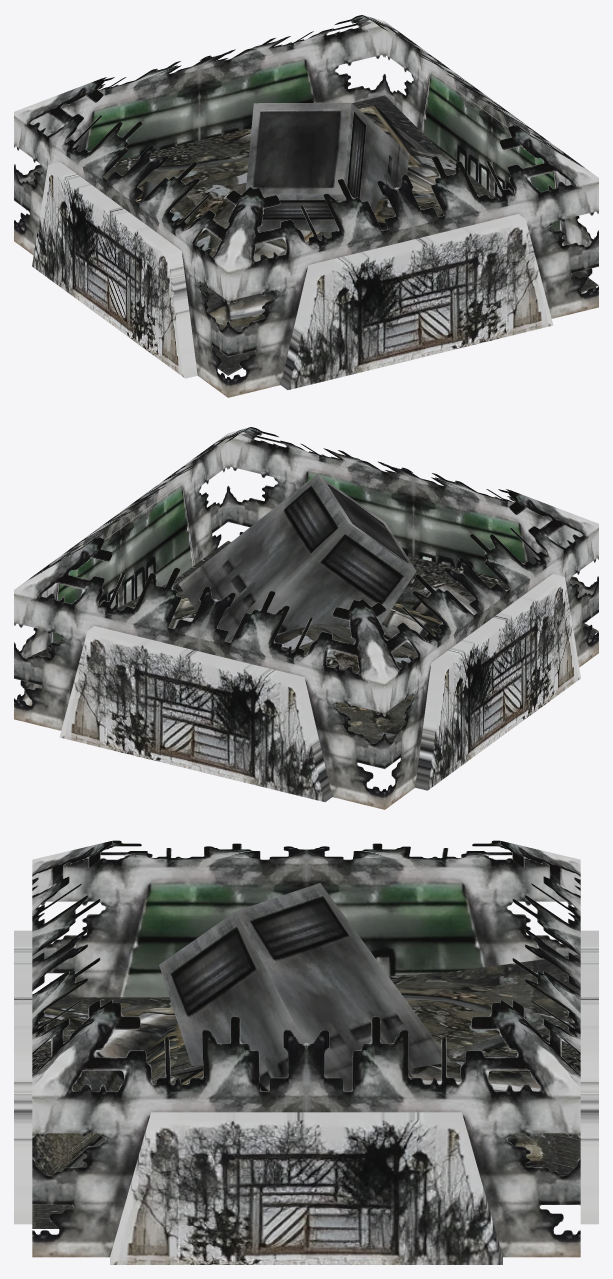
The model's file is hub_dam_hdtex.glb.
The picture shows the model from 3 angles, top to bottom: view 1: azimuth 30°, elevation 25°; view 2: azimuth 150°, elevation 25°; view 3: azimuth 270°, elevation 25°; orthographic projection. The views are drawn at different scales.
Parts seen in each view (by area): view 1: HubDam; view 2: HubDam; view 3: HubDam.
Boxes of the visible parts, <box> form: HubDam: <box>14,15,598,397</box>; HubDam: <box>14,427,598,809</box>; HubDam: <box>14,840,598,1264</box>.
Size of the model in its own units: 25.6 by 12.58 by 25.6.
Materials: 2 (2 with a texture image).
